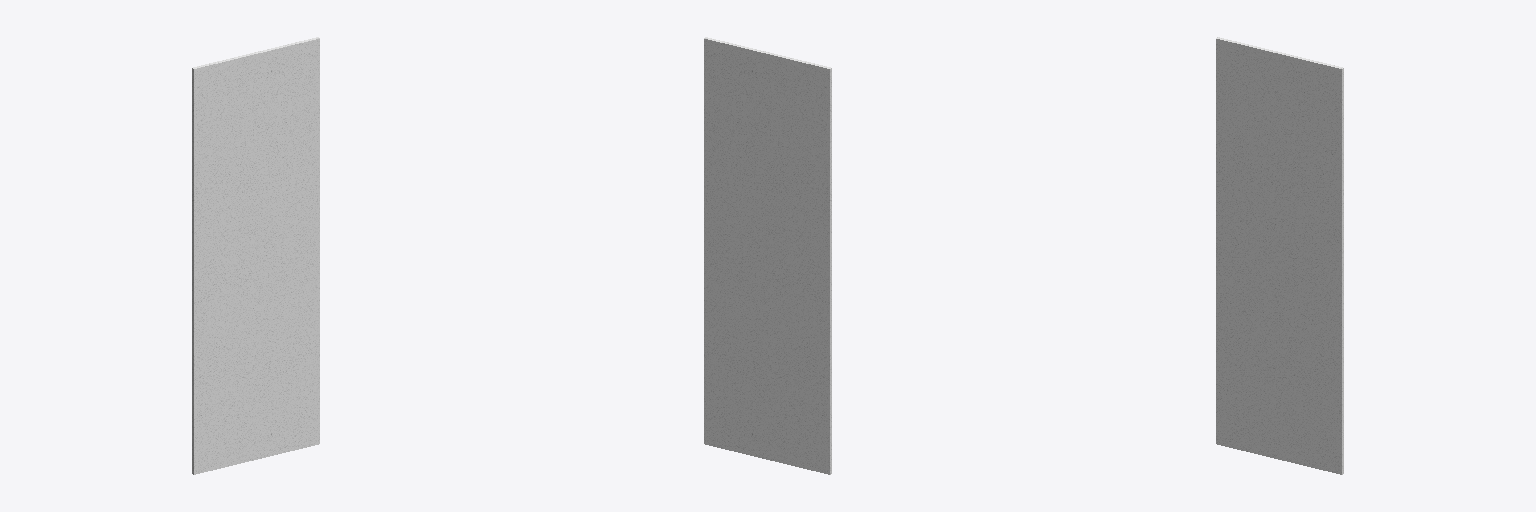
3 views of the same model, side by side, from view 1: azimuth 30°, elevation 25°; view 2: azimuth 150°, elevation 25°; view 3: azimuth 330°, elevation 25° (orthographic).
Parts seen in each view (by area): view 1: door_Plane.002; view 2: door_Plane.002; view 3: door_Plane.002.
Part boxes in pixels (bbox=[...]): door_Plane.002: bbox=[192, 37, 319, 474]; door_Plane.002: bbox=[704, 37, 831, 474]; door_Plane.002: bbox=[1216, 37, 1343, 474].
Bounding box in the file's own units: 51.66 × 158 × 1.45.
Materials: 1 (1 with a texture image).